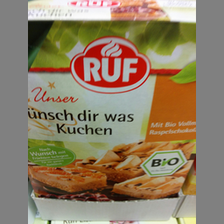cake: (28, 4, 195, 199)
